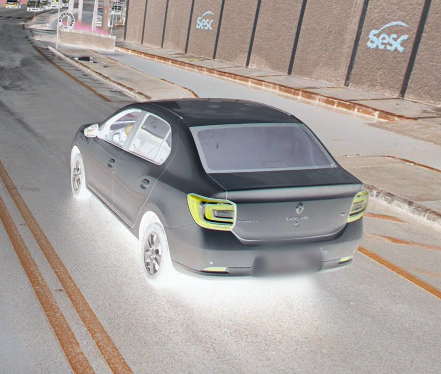car: (64, 82, 373, 294)
